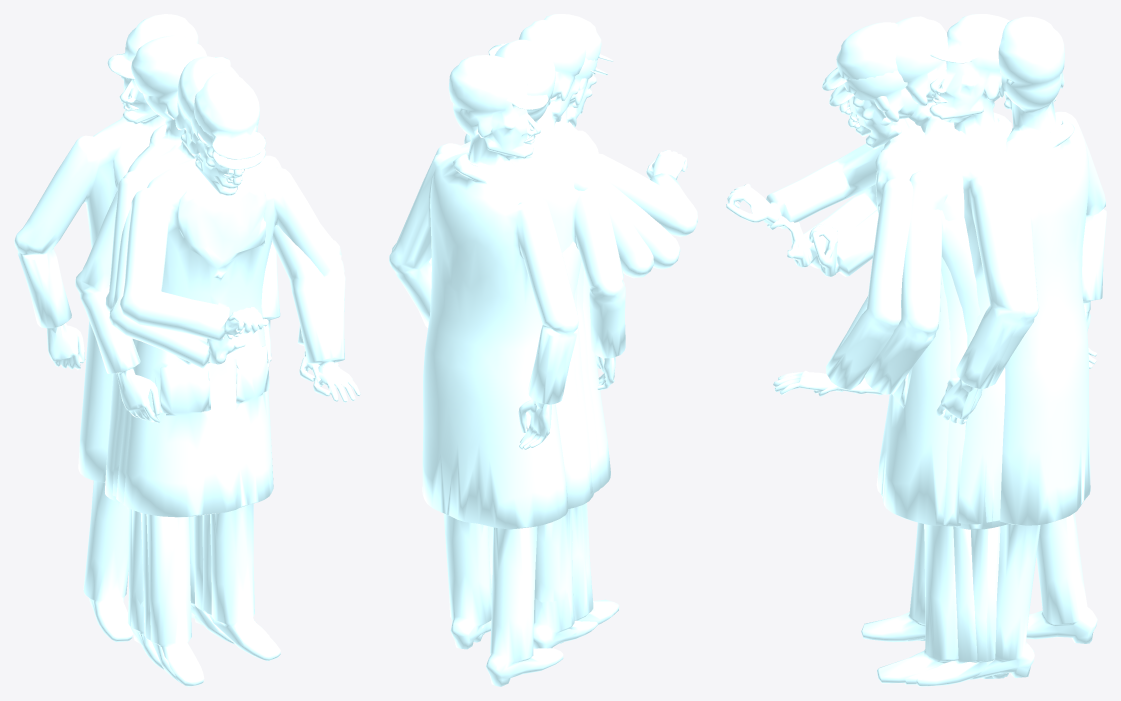
File: echo_operator.glb
3 renders of one model, left to right at view 1: azimuth 30°, elevation 25°; view 2: azimuth 150°, elevation 25°; view 3: azimuth 270°, elevation 25°, orthographic. The views are drawn at different scales.
Parts seen in each view (by area): view 1: pose_reach, pose_done, pose_idle, pose_pull, pose_knob; view 2: pose_done, pose_idle, pose_pull, pose_knob, pose_reach; view 3: pose_done, pose_reach, pose_idle, pose_knob, pose_pull.
Part boxes in pixels (bbox=[...]): pose_reach: bbox=[120, 72, 345, 686]; pose_done: bbox=[14, 14, 234, 644]; pose_idle: bbox=[75, 35, 280, 657]; pose_pull: bbox=[105, 56, 360, 683]; pose_knob: bbox=[105, 113, 341, 670]; pose_done: bbox=[389, 55, 578, 686]; pose_idle: bbox=[391, 39, 625, 648]; pose_pull: bbox=[464, 20, 653, 643]; pose_knob: bbox=[534, 57, 680, 647]; pose_reach: bbox=[544, 14, 697, 613]; pose_done: bbox=[965, 16, 1106, 679]; pose_reach: bbox=[726, 22, 958, 683]; pose_idle: bbox=[916, 14, 1026, 686]; pose_knob: bbox=[767, 70, 1008, 678]; pose_pull: bbox=[773, 16, 994, 684].
Size of the model in its own units: 0.7863 by 1.79 by 0.969.
